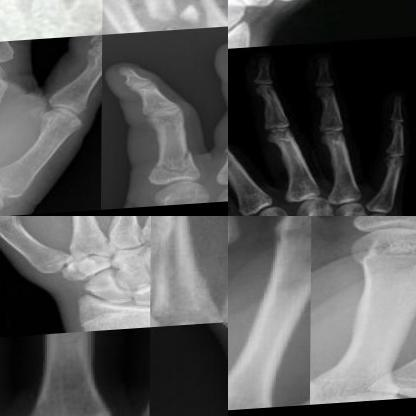fracture: (151, 216, 205, 320), (149, 151, 201, 184), (115, 20, 180, 37)
